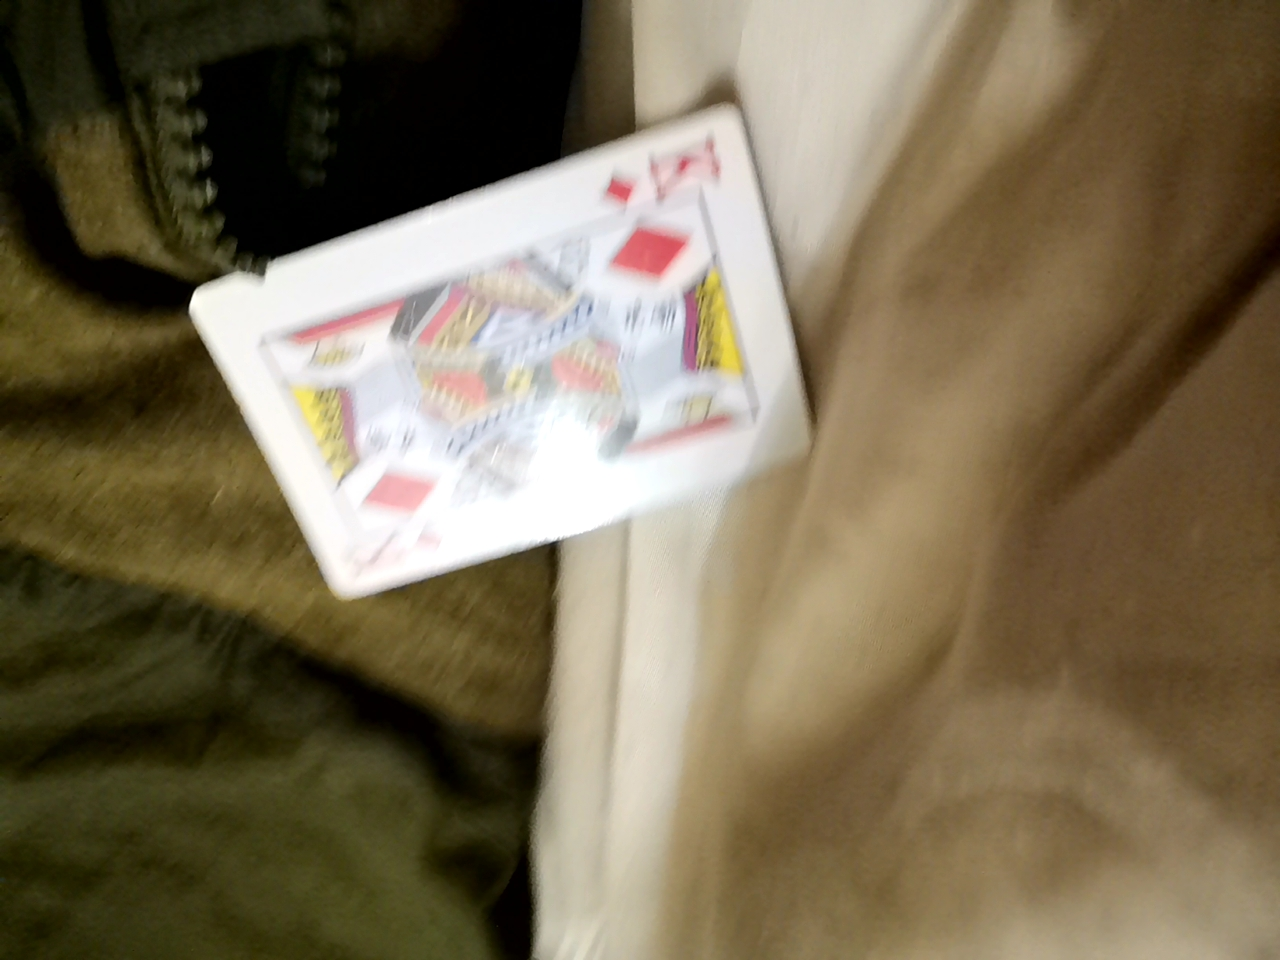fk k: (189, 32, 821, 522)
